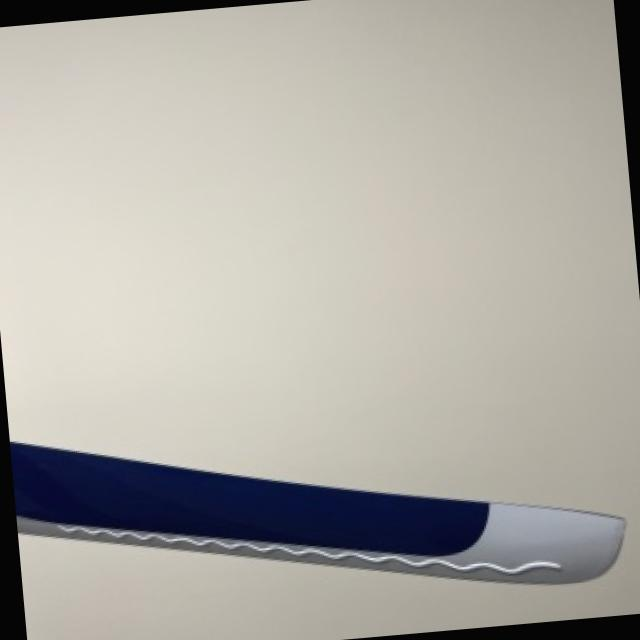healthy: (12, 441, 626, 582)
